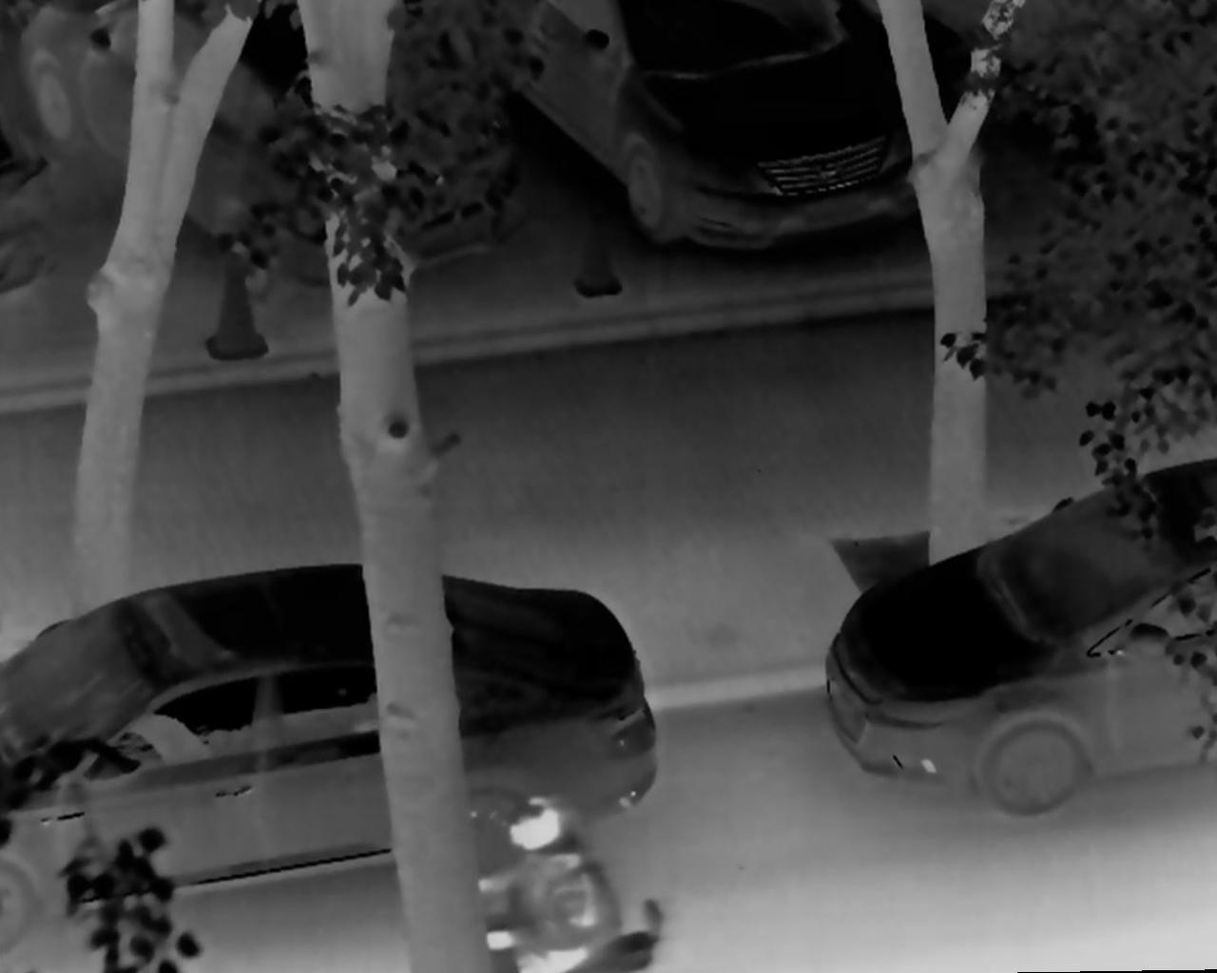person: (469, 794, 603, 973)
